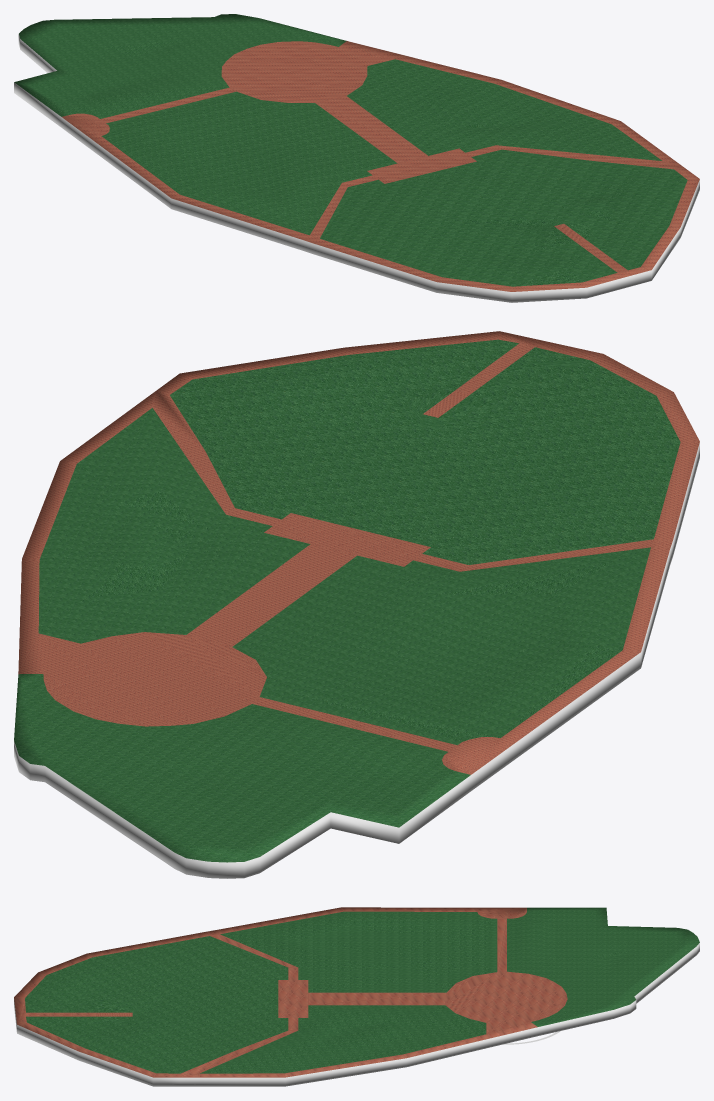
The model's file is awesome_island_base.fbx.
3 views of the same model, one above another, from view 1: azimuth 30°, elevation 25°; view 2: azimuth 150°, elevation 25°; view 3: azimuth 270°, elevation 25° (orthographic). The views are drawn at different scales.
Visible parts, largest first — view 1: awesome_island_base; view 2: awesome_island_base; view 3: awesome_island_base.
Boxes of the visible parts, x1,y1,x2,y2 form: awesome_island_base: [14, 14, 699, 302]; awesome_island_base: [14, 331, 699, 878]; awesome_island_base: [14, 907, 699, 1086].
Size of the model in its own units: 405 by 26.79 by 690.
